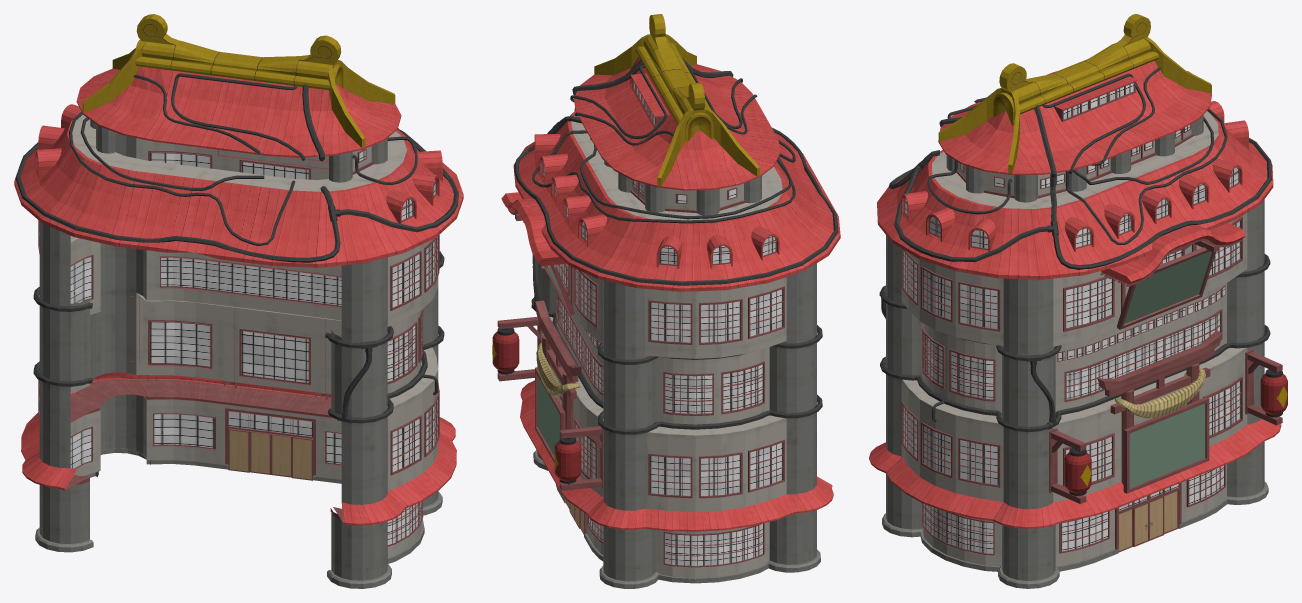
The model's file is REDUCTION_SM_ENV_KNVLLG_CommonBuilding_E_2.fbx.
3 renders of one model, left to right at view 1: azimuth 30°, elevation 25°; view 2: azimuth 150°, elevation 25°; view 3: azimuth 270°, elevation 25°, orthographic. The views are drawn at different scales.
Parts seen in each view (by area): view 1: REDUCTION_SM_ENV_KNVLLG_CommonBuilding_E_2.mo; view 2: REDUCTION_SM_ENV_KNVLLG_CommonBuilding_E_2.mo; view 3: REDUCTION_SM_ENV_KNVLLG_CommonBuilding_E_2.mo.
Boxes of the visible parts, bbox=[...] form: REDUCTION_SM_ENV_KNVLLG_CommonBuilding_E_2.mo: bbox=[14, 14, 463, 588]; REDUCTION_SM_ENV_KNVLLG_CommonBuilding_E_2.mo: bbox=[492, 14, 840, 588]; REDUCTION_SM_ENV_KNVLLG_CommonBuilding_E_2.mo: bbox=[869, 14, 1287, 588].
Bounding box in the file's own units: 5944 × 7353 × 5970.
